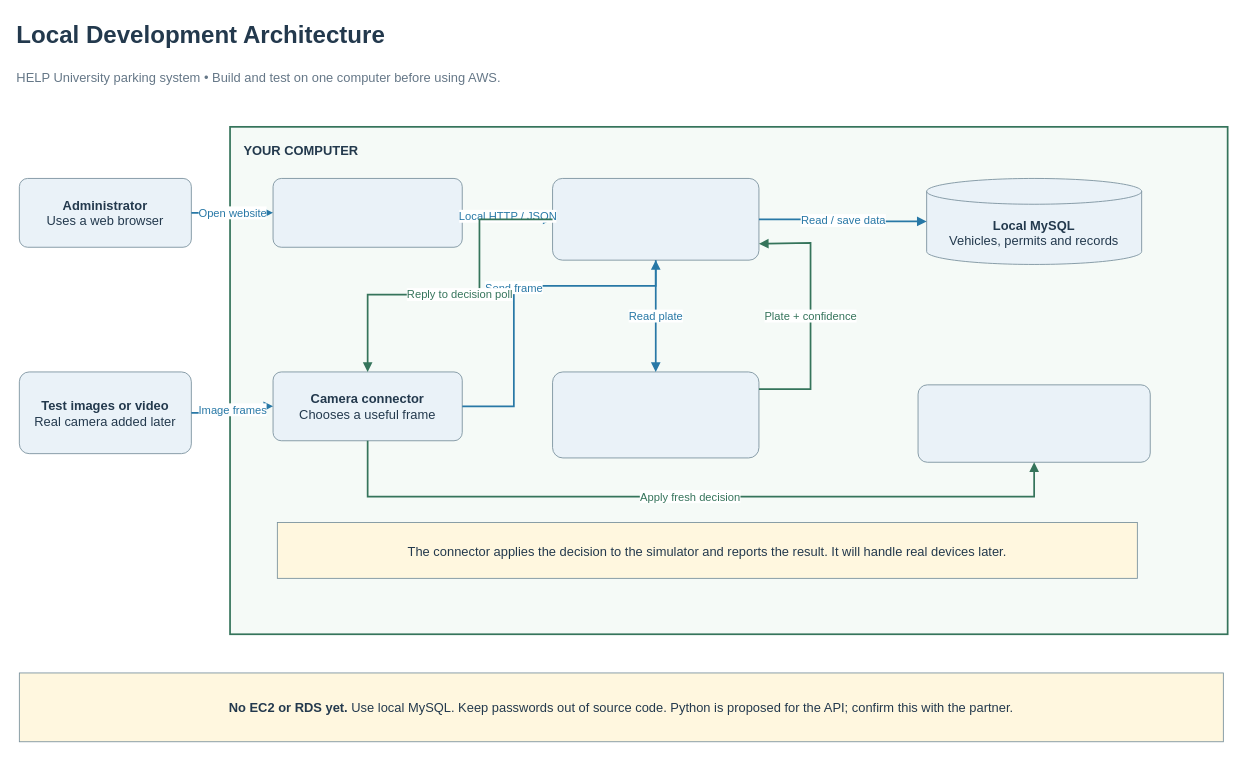
This 1243x757 diagram has some shape labels left out. Each missing label, with the centre of its shape:
Admin website Vue frontend: the point at 367,212
Application API Login, vehicles and access rules: the point at 655,219
Gate and screen simulator No real gate opens in early tests: the point at 1033,423
Plate reader Simulated result first Partner AI model later: the point at 655,414
